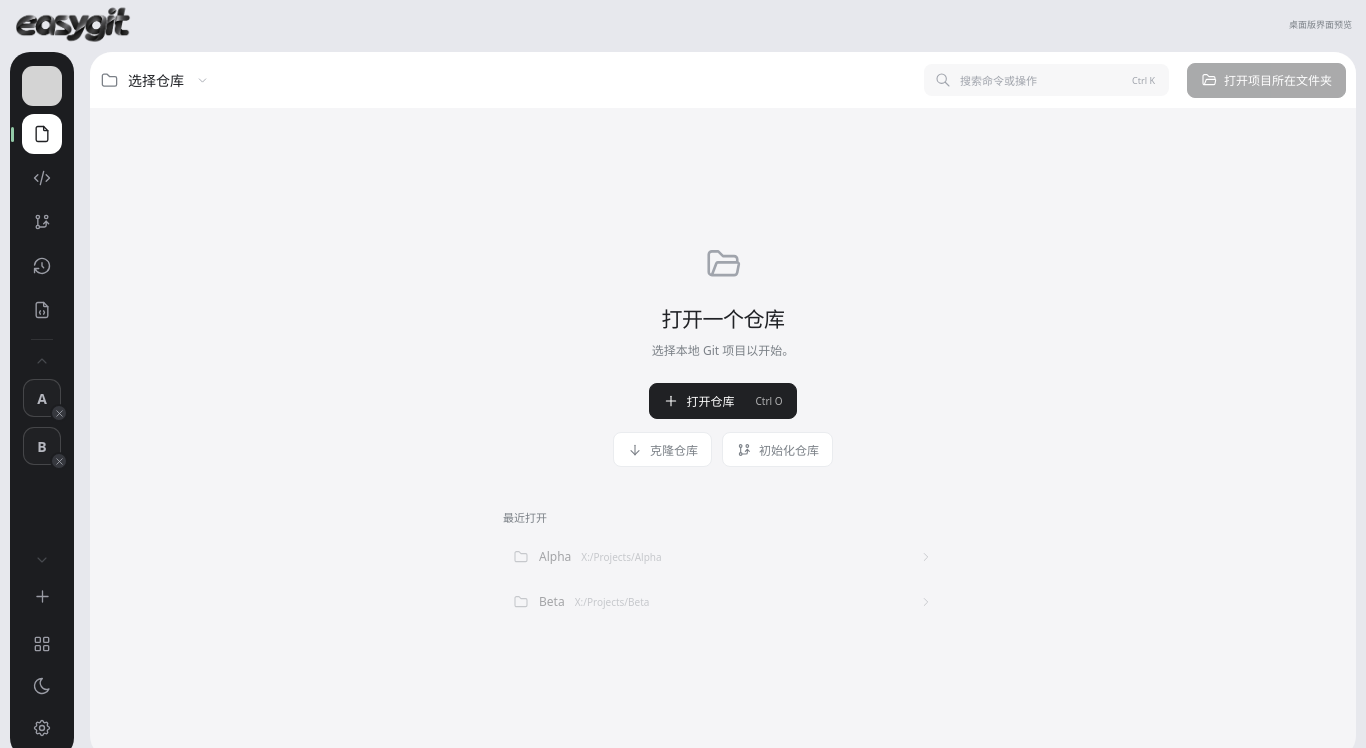
代码差异刷新 › 后台读取失败时在底栏提示并保留差异，后续刷新可以恢复
Click the button "A". click: (42, 398)
box: [23,379,61,417]
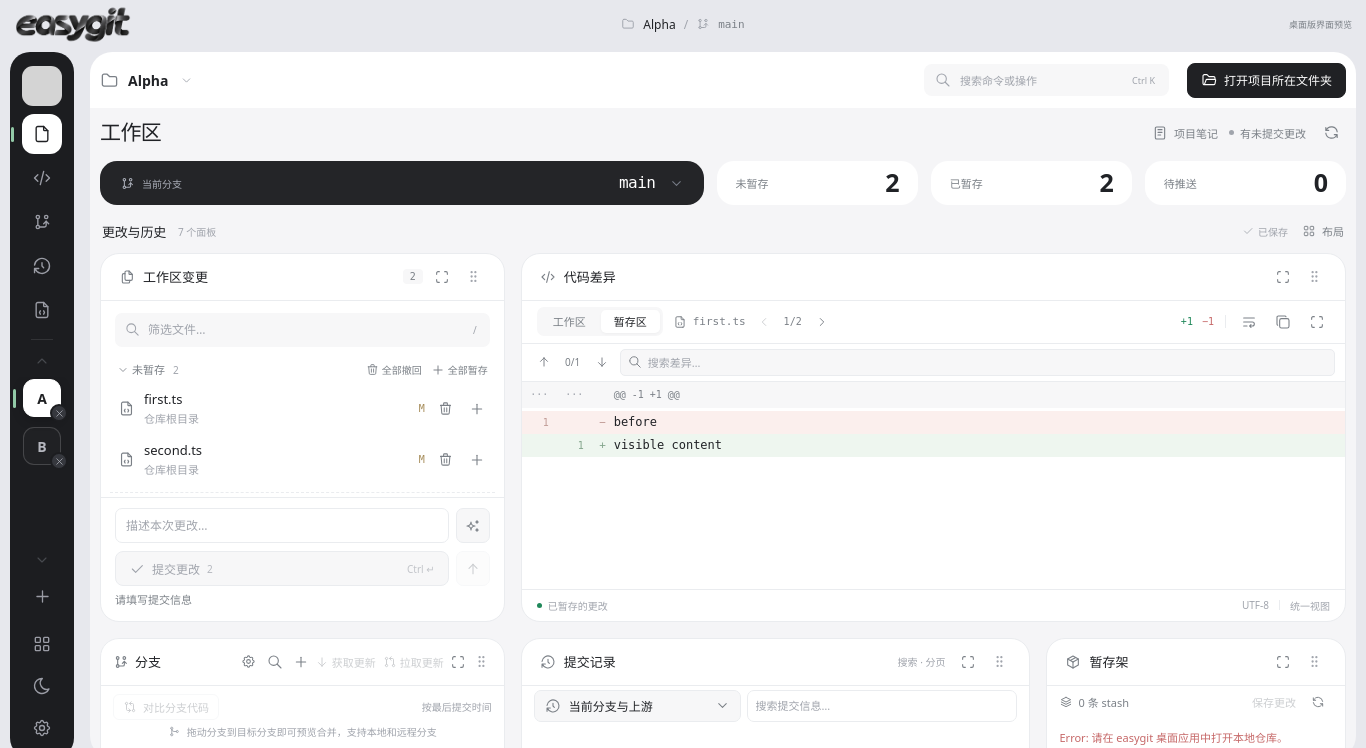
Click the button named "刷新仓库". click: (1332, 133)
box: [1317,118,1346,147]
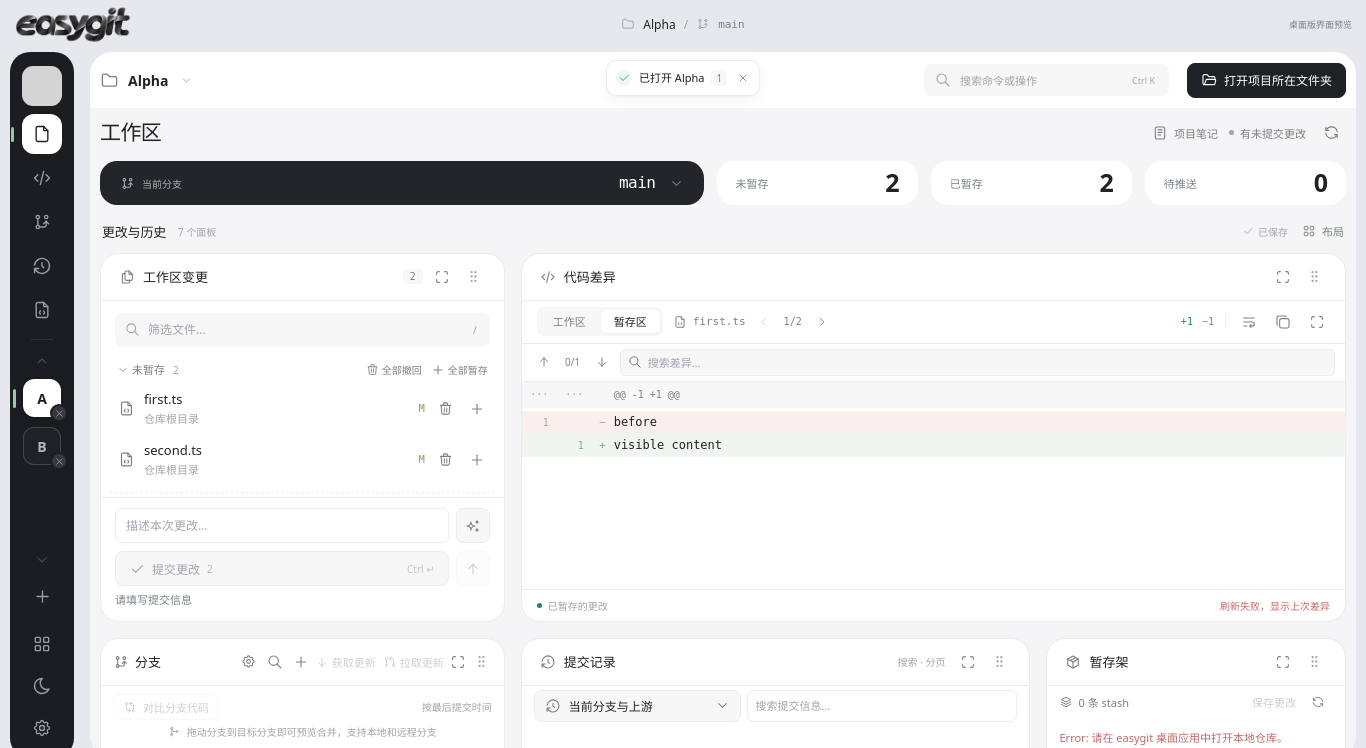
Check: the element named "文件差异" shows "visible content", box [614,438,722,452]
Click the button named "刷新仓库". click: (1332, 133)
box: [1317,118,1346,147]
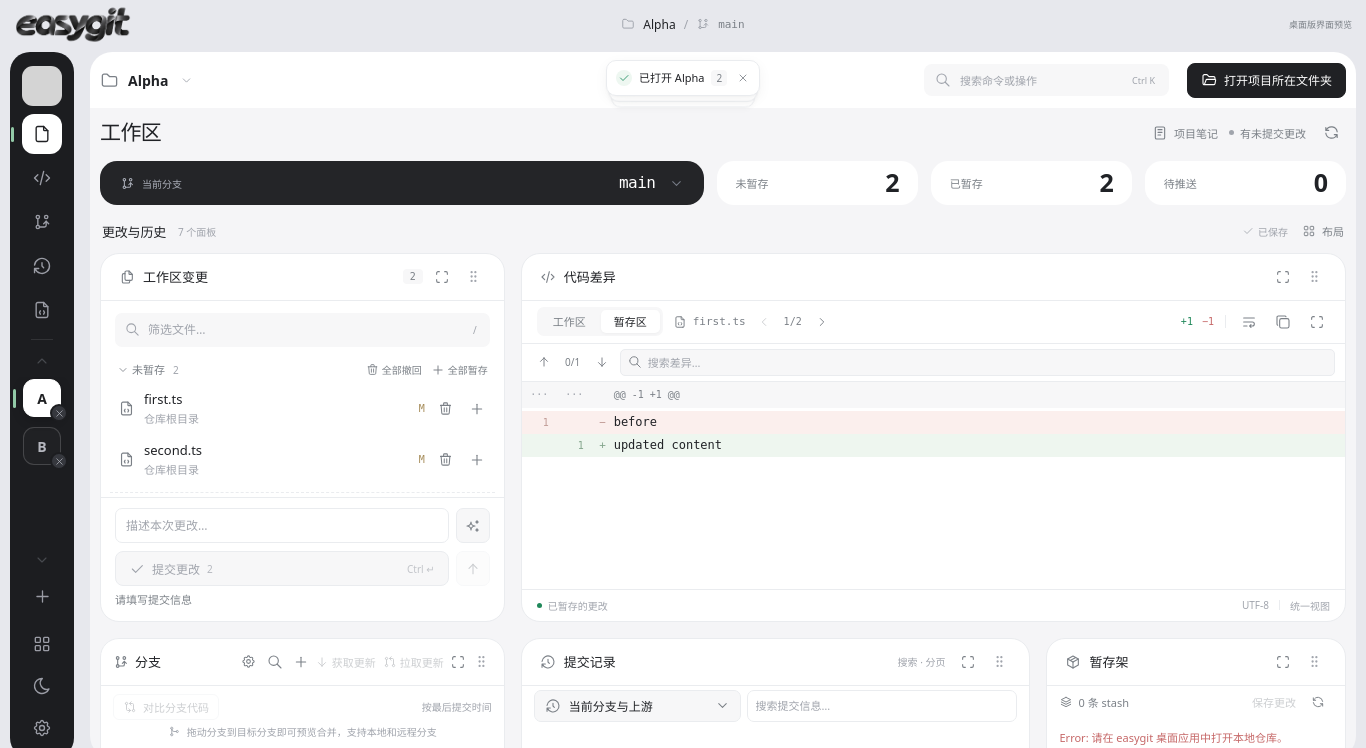
Check: the element named "文件差异" shows "updated content", box [614,438,722,452]
